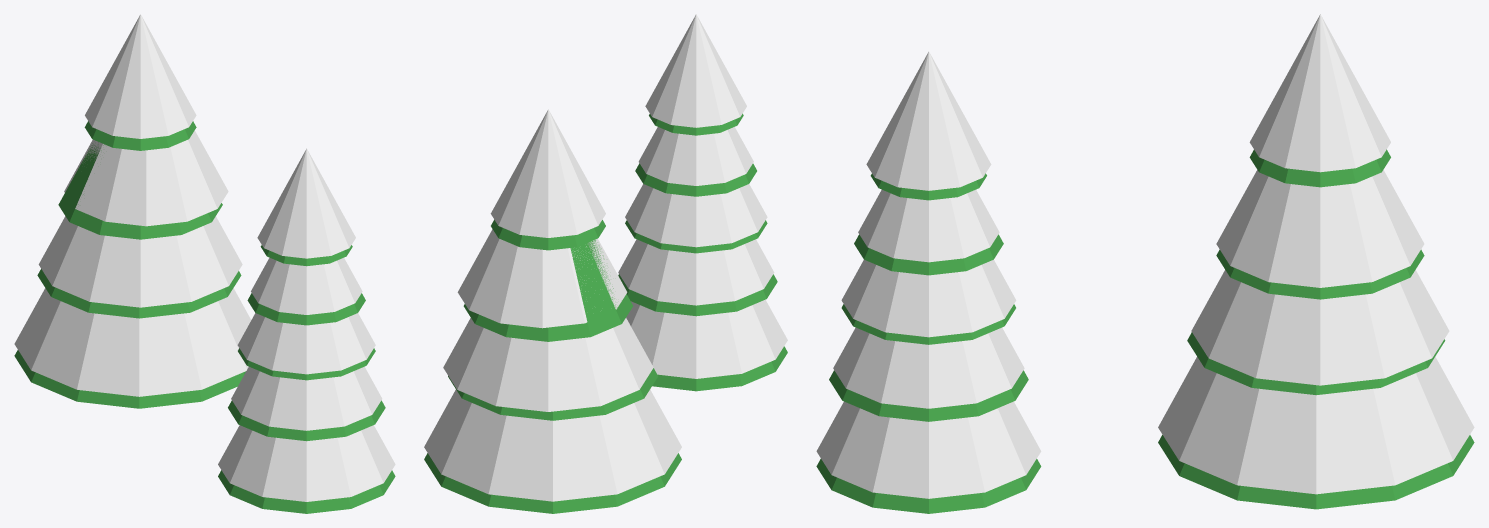
File: Snowy Trees.glb
3 views of the same model, side by side, from view 1: azimuth 30°, elevation 25°; view 2: azimuth 150°, elevation 25°; view 3: azimuth 270°, elevation 25° (orthographic). The views are drawn at different scales.
Parts seen in each view (by area): view 1: group604440350, group2038679956, group1062918593, group445927068, group659050245, group2095917435, group830600560, group66859475, group1668320680, group883133977, group1951954357, group1755882475 (+6 smaller); view 2: group604440350, group2038679956, group1062918593, group445927068, group659050245, group2095917435, group830600560, group66859475, group1668320680, group883133977, group1951954357, group1755882475 (+6 smaller); view 3: group604440350, group2038679956, group1062918593, group445927068, group659050245, group2095917435, group830600560, group66859475, group1668320680, group1951954357, group1648834331, group1917620927 (+6 smaller).
Part boxes in pixels (x1,y1,x2,y2): group604440350: (14,288,251,396); group2038679956: (38,216,242,307); group1062918593: (64,130,228,226); group445927068: (218,425,395,501); group659050245: (85,14,196,138); group2095917435: (231,366,382,430); group830600560: (237,313,375,374); group66859475: (257,148,355,258); group1668320680: (251,257,362,314); group883133977: (58,142,222,239); group1951954357: (14,350,245,408); group1755882475: (37,269,241,318); group604440350: (424,389,681,501); group2038679956: (443,318,653,411); group1062918593: (457,229,627,328); group445927068: (626,299,787,378); group659050245: (490,109,605,237); group2095917435: (618,239,774,305); group830600560: (625,184,767,247); group66859475: (645,14,746,127); group1668320680: (638,127,753,185); group883133977: (463,240,632,341); group1951954357: (424,453,681,513); group1755882475: (448,368,658,420); group604440350: (1158,356,1474,494); group2038679956: (1191,270,1449,385); group1062918593: (1216,170,1424,287); group445927068: (816,401,1041,498); group659050245: (1249,14,1390,172); group2095917435: (833,327,1024,408); group830600560: (841,259,1016,337); group66859475: (866,51,991,190); group1668320680: (858,189,999,262); group1951954357: (1158,435,1474,509); group1648834331: (816,459,1041,513); group1917620927: (829,370,1028,421).
Size of the model in its own units: 0.38 by 0.64 by 0.79.
